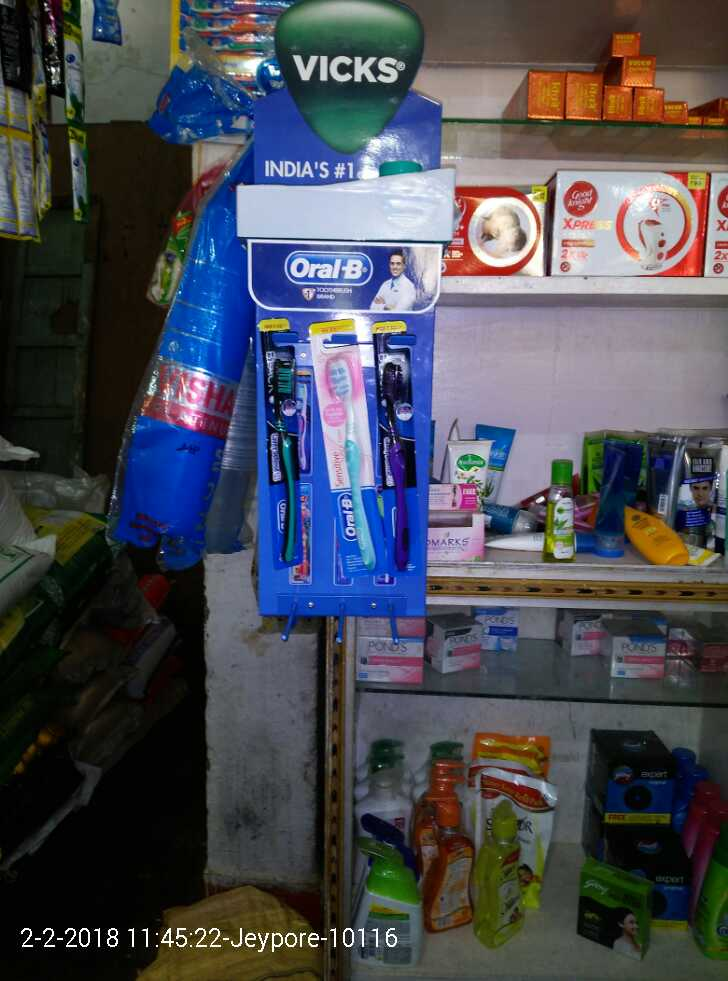oralb: (308, 313, 390, 588), (265, 338, 315, 576), (378, 326, 422, 577)
